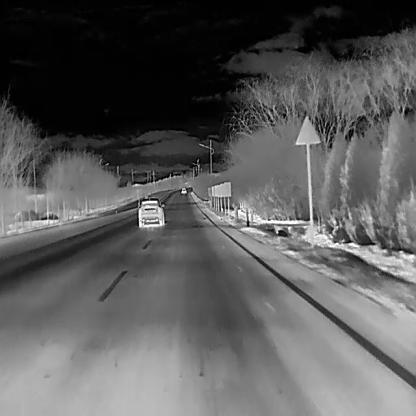car: (136, 199, 164, 227), (180, 186, 186, 194)
